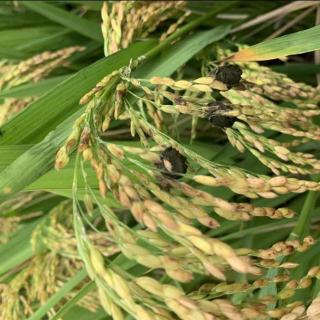Gosong-Palsu: (154, 145, 189, 182), (205, 62, 242, 93), (202, 99, 237, 129)
